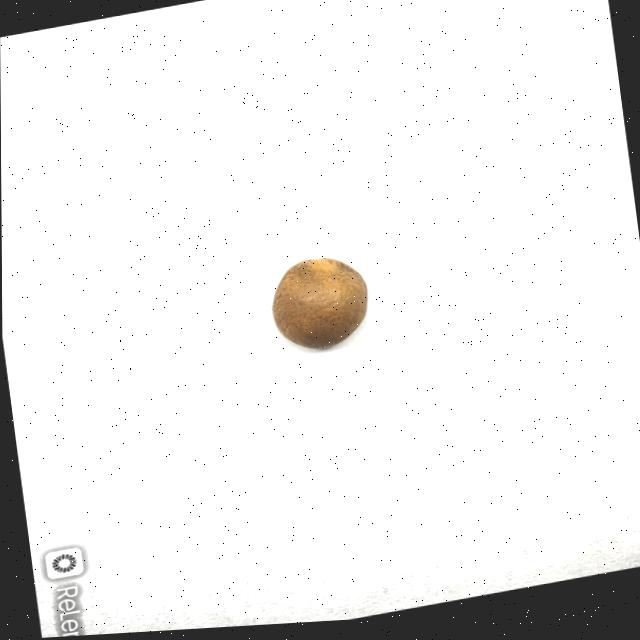Good bean: (264, 252, 374, 360)
